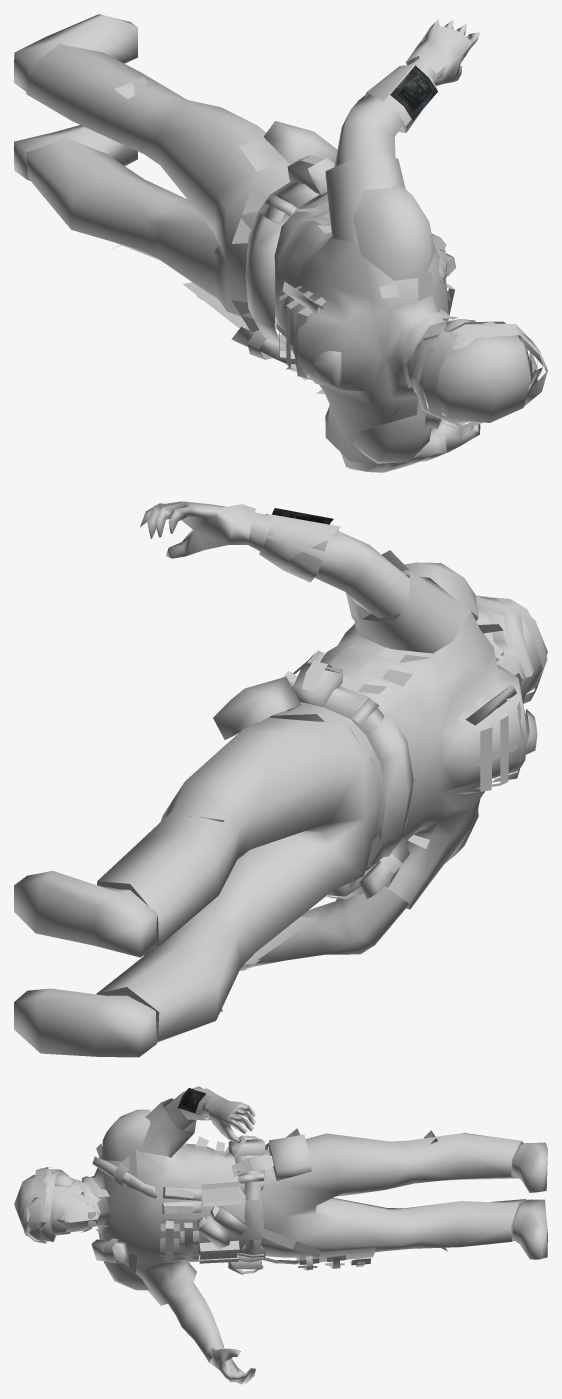
File: c_mul_mp_pmc_shotgun_fb_LOD2.obj
The picture shows the model from 3 angles, top to bottom: view 1: azimuth 30°, elevation 25°; view 2: azimuth 150°, elevation 25°; view 3: azimuth 270°, elevation 25°; orthographic projection. The views are drawn at different scales.
Visible parts, largest first — view 1: mtl_c_mul_mp_pmc_lbr, mtl_c_mul_mp_pmc_upperbody2, mtl_c_mul_mp_pmc_gear_main_1, mtl_c_mul_mp_pmc_shot_gear, mtl_c_mul_mp_pmc_helmet1, mtl_c_gen_arm_clean_brown, mtl_c_mul_mp_pmc_gloves2, mtl_c_gen_mp_datapad; view 2: mtl_c_mul_mp_pmc_lbr, mtl_c_mul_mp_pmc_upperbody2, mtl_c_mul_mp_pmc_gear_main_1, mtl_c_gen_arm_clean_brown, mtl_c_mul_mp_pmc_shot_gear, mtl_c_mul_mp_pmc_gloves2, mtl_c_mul_mp_pmc_helmet1; view 3: mtl_c_mul_mp_pmc_lbr, mtl_c_mul_mp_pmc_upperbody2, mtl_c_mul_mp_pmc_gear_main_1, mtl_c_mul_mp_pmc_shot_gear, mtl_c_gen_arm_clean_brown, mtl_c_mul_mp_pmc_helmet1, mtl_c_mul_mp_pmc_gloves2, mtl_c_mul_mp_pmc_balaclava, mtl_c_mul_mp_pmc_glasses, mtl_c_gen_mp_datapad.
Part boxes in pixels (x1,y1,x2,y2): mtl_c_mul_mp_pmc_lbr: [26, 44, 327, 332]; mtl_c_mul_mp_pmc_upperbody2: [274, 154, 448, 466]; mtl_c_mul_mp_pmc_gear_main_1: [14, 14, 450, 428]; mtl_c_mul_mp_pmc_shot_gear: [245, 64, 455, 463]; mtl_c_mul_mp_pmc_helmet1: [408, 316, 547, 428]; mtl_c_gen_arm_clean_brown: [334, 56, 446, 472]; mtl_c_mul_mp_pmc_gloves2: [406, 19, 480, 457]; mtl_c_gen_mp_datapad: [390, 65, 437, 120]; mtl_c_mul_mp_pmc_lbr: [96, 702, 383, 1042]; mtl_c_mul_mp_pmc_upperbody2: [300, 550, 527, 909]; mtl_c_mul_mp_pmc_gear_main_1: [14, 682, 537, 1057]; mtl_c_gen_arm_clean_brown: [245, 512, 409, 968]; mtl_c_mul_mp_pmc_shot_gear: [213, 513, 478, 898]; mtl_c_mul_mp_pmc_gloves2: [140, 501, 255, 970]; mtl_c_mul_mp_pmc_helmet1: [475, 595, 547, 703]; mtl_c_mul_mp_pmc_lbr: [261, 1128, 526, 1257]; mtl_c_mul_mp_pmc_upperbody2: [81, 1098, 245, 1305]; mtl_c_mul_mp_pmc_gear_main_1: [81, 1142, 547, 1270]; mtl_c_mul_mp_pmc_shot_gear: [102, 1088, 371, 1290]; mtl_c_gen_arm_clean_brown: [164, 1086, 224, 1362]; mtl_c_mul_mp_pmc_helmet1: [14, 1167, 98, 1243]; mtl_c_mul_mp_pmc_gloves2: [205, 1095, 255, 1384]; mtl_c_mul_mp_pmc_balaclava: [52, 1174, 102, 1235]; mtl_c_mul_mp_pmc_glasses: [28, 1196, 66, 1239]; mtl_c_gen_mp_datapad: [178, 1088, 206, 1112].
Size of the model in its own units: 67.81 by 106 by 185.
